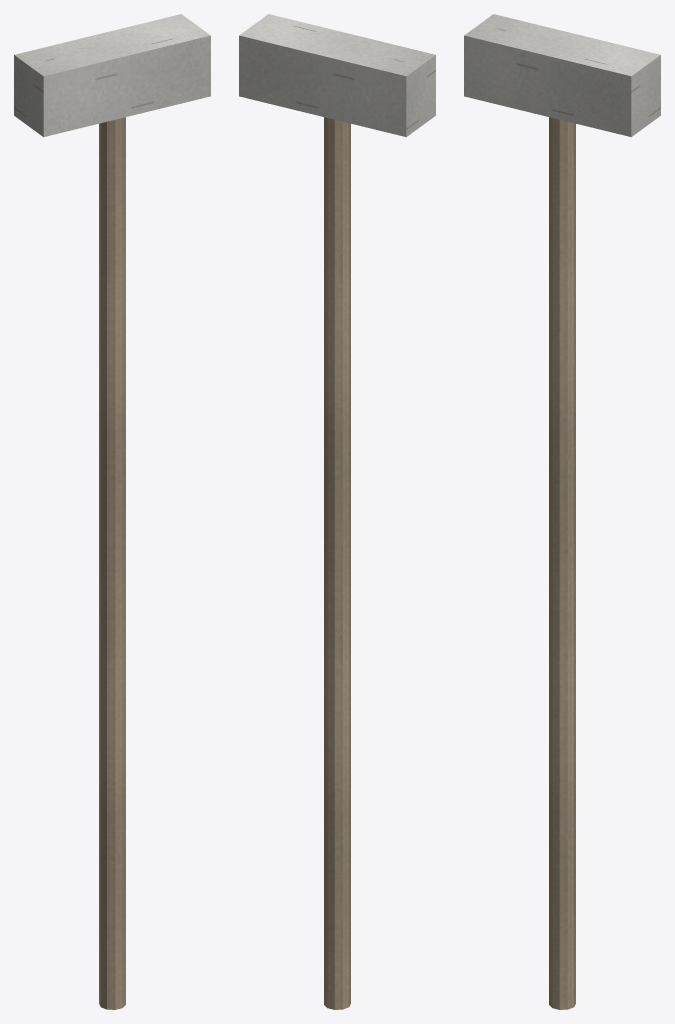
File: mop.glb
The picture shows the model from 3 angles, left to right: view 1: azimuth 30°, elevation 25°; view 2: azimuth 150°, elevation 25°; view 3: azimuth 330°, elevation 25°; orthographic projection.
Parts seen in each view (by area): view 1: NC_mop; view 2: NC_mop; view 3: NC_mop.
Part boxes in pixels (box(x1,y1,x2,y2)): NC_mop: box(14, 14, 210, 1009); NC_mop: box(239, 14, 435, 1009); NC_mop: box(464, 14, 660, 1009).
Bounding box in the file's own units: 0.23 × 1.26 × 0.07.
Materials: 2 (2 with a texture image).
